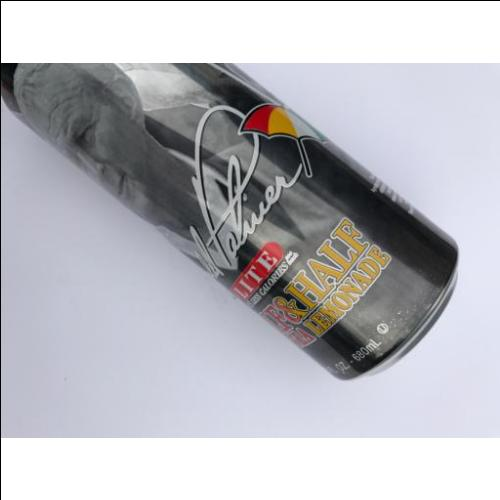metal: (1, 62, 460, 380)
